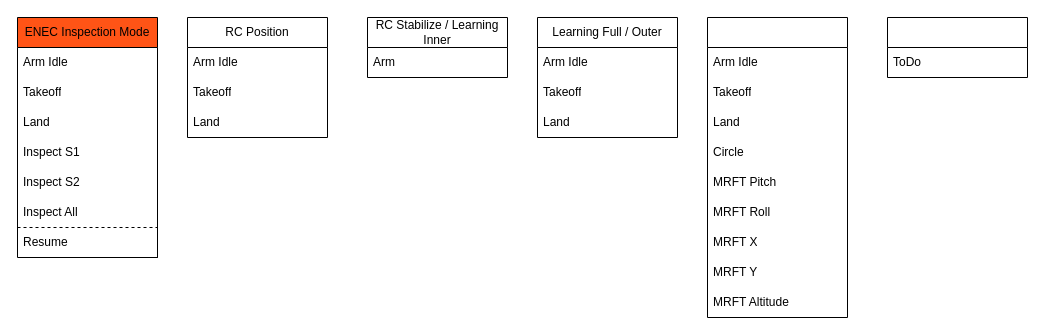
Image size: 1045x335. Some labels were removed from this diagram. Here are the shapes that lost their labels. From the top down, the box of each, then its label:
(886, 16, 1028, 78): LeafSDK Mission
(706, 16, 848, 318): Refined Tuning - Collect Data
